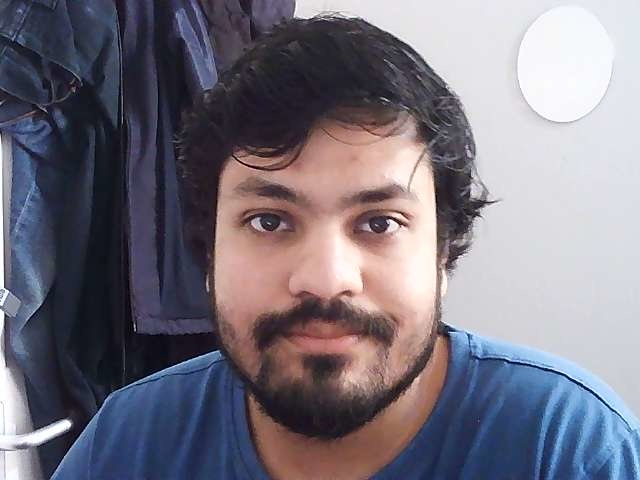Face: (184, 12, 492, 427)
